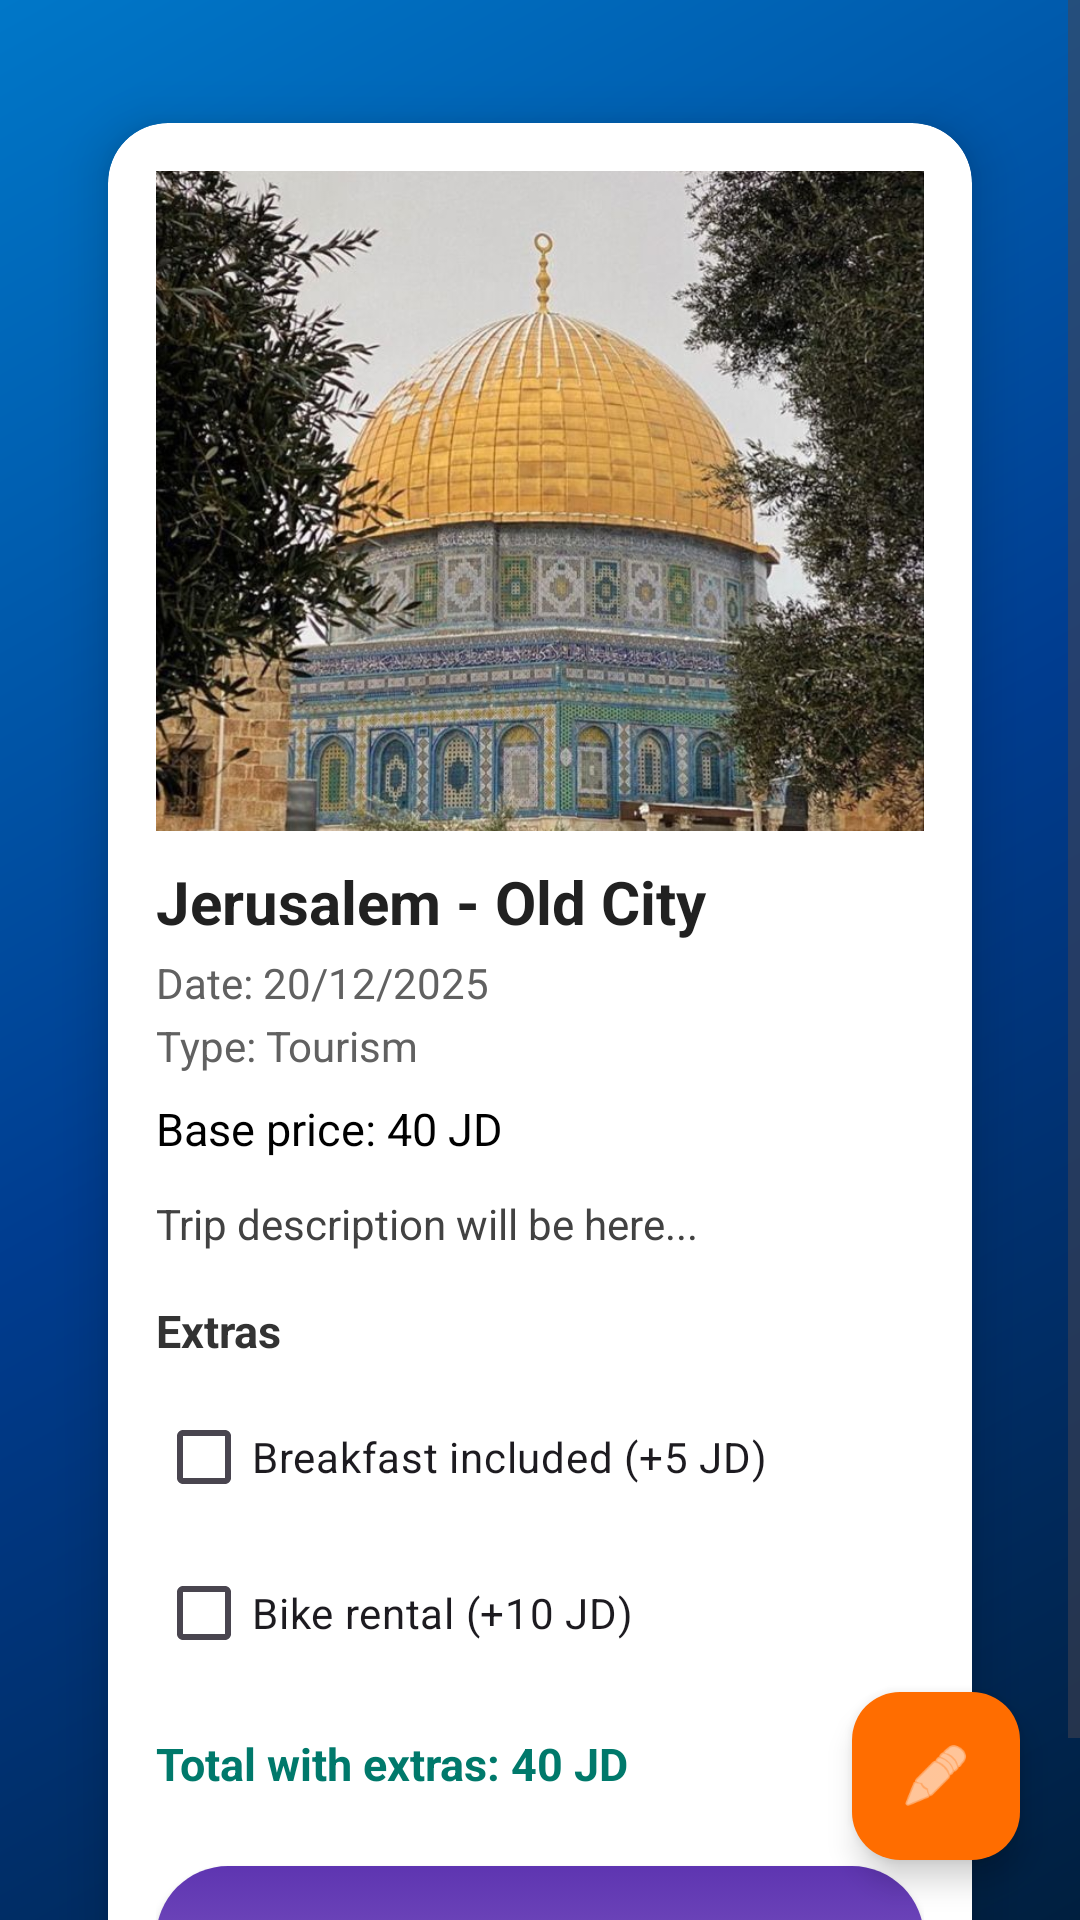

Where to tap for icons on this 1080px×1920px app screen, as point (x, y):
Edit trip: point (936, 1776)
